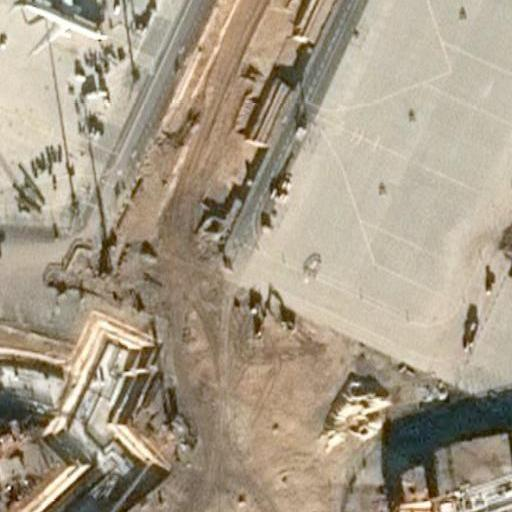Aircraft: (6, 0, 108, 56), (5, 0, 107, 55)
